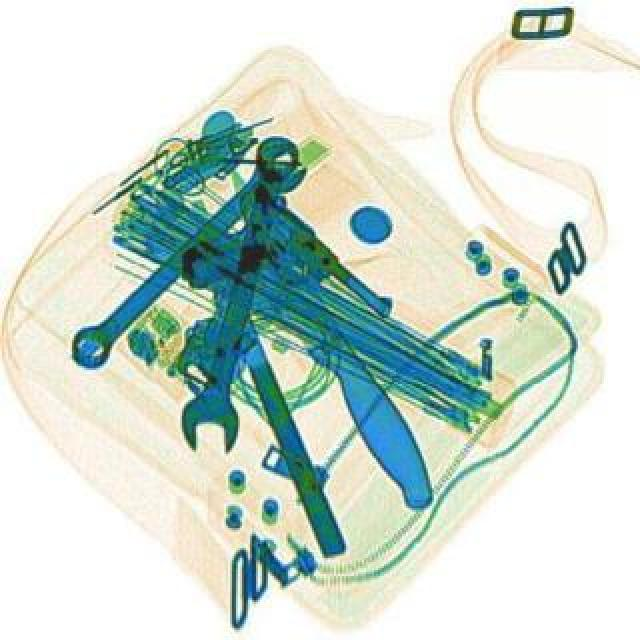gun: (164, 182, 396, 394)
knife: (206, 166, 448, 522), (182, 200, 346, 564)
scissors: (54, 134, 316, 386), (170, 136, 314, 464)
